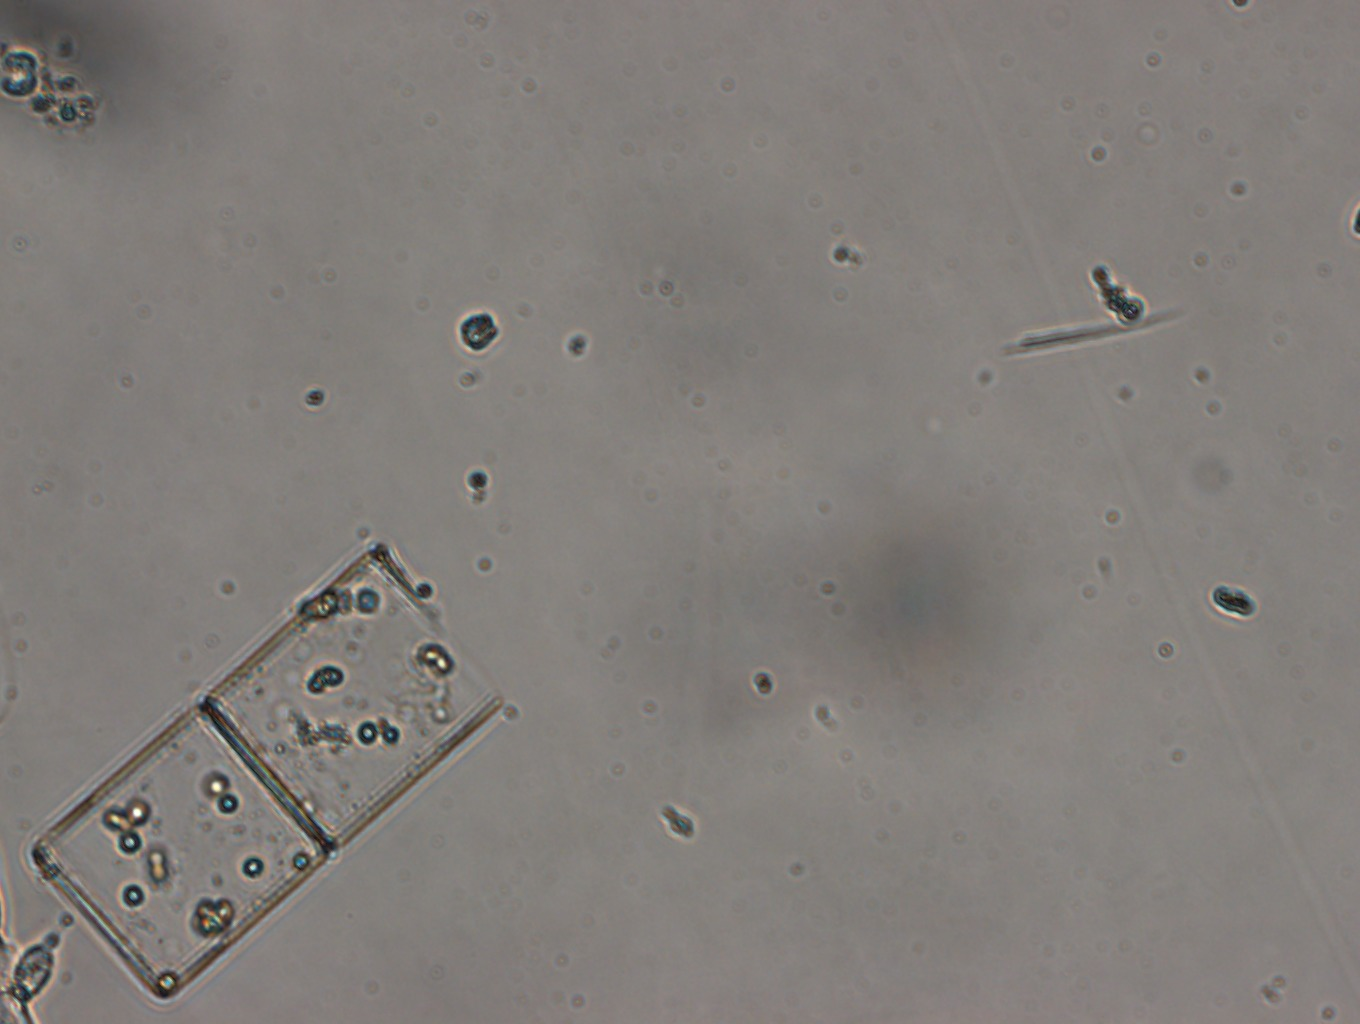guinardia flaccida: (30, 540, 507, 1002)
